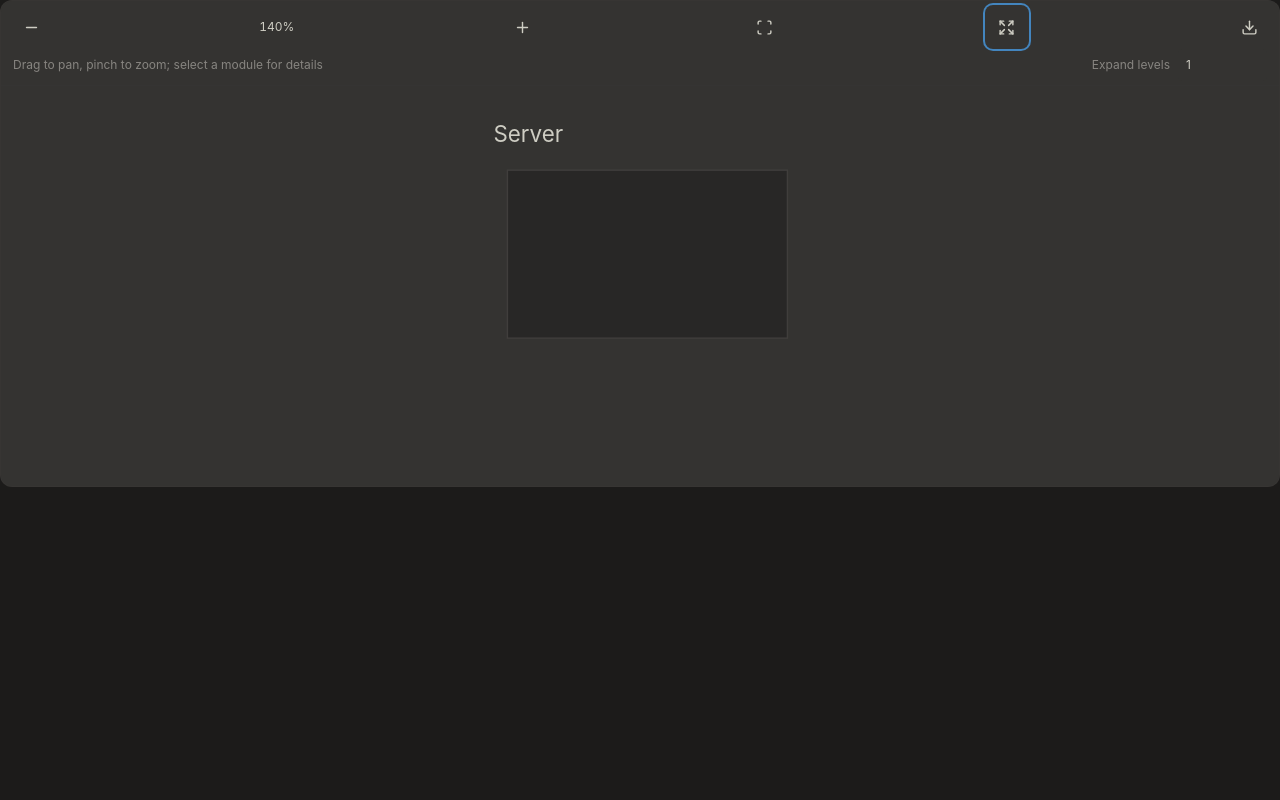
interactive architecture SVG › opens a fullscreen modal, contains keyboard focus, and restores focus and scroll on Escape
Expected: the button "Server" is shown, [493, 120, 563, 147]
Click the button named "Open fullscreen diagram" at (1007, 27), box [985, 5, 1029, 49]
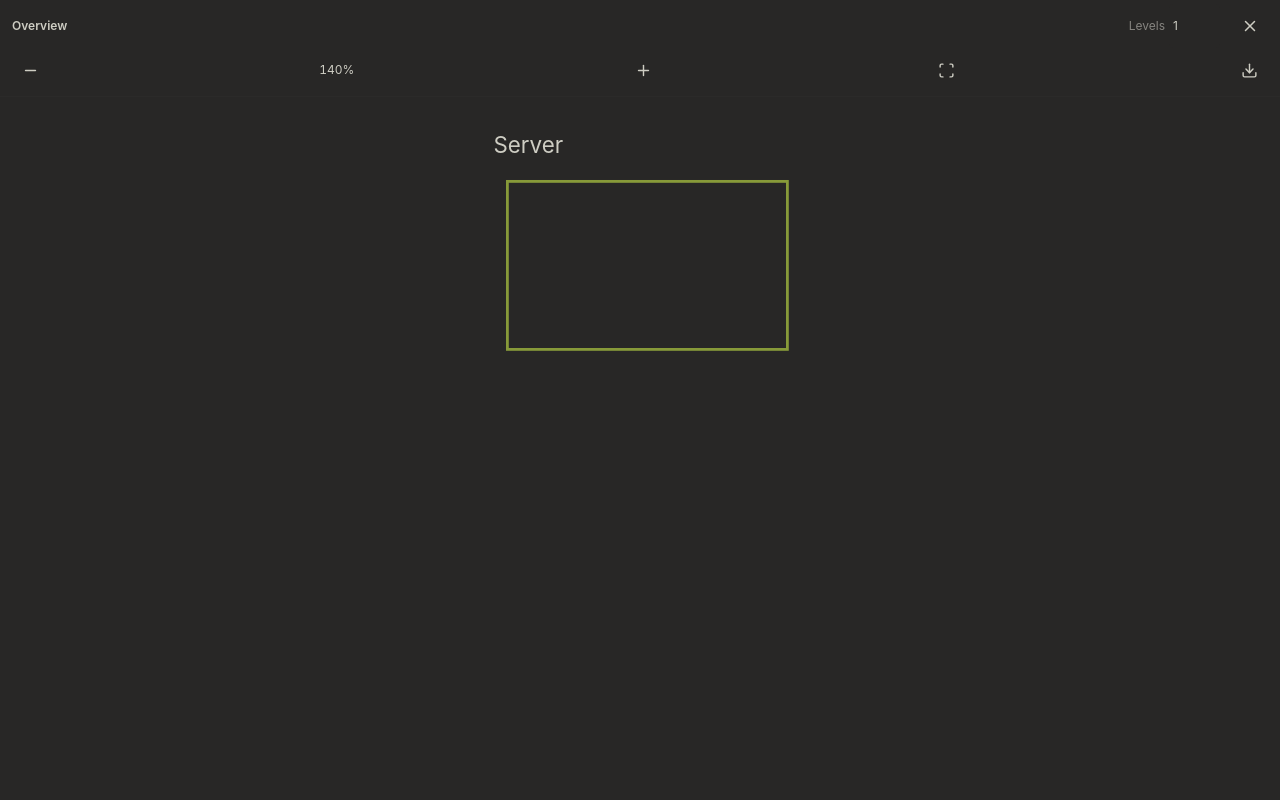
Result: the dialog named "Architecture diagram" is shown
Press Tab
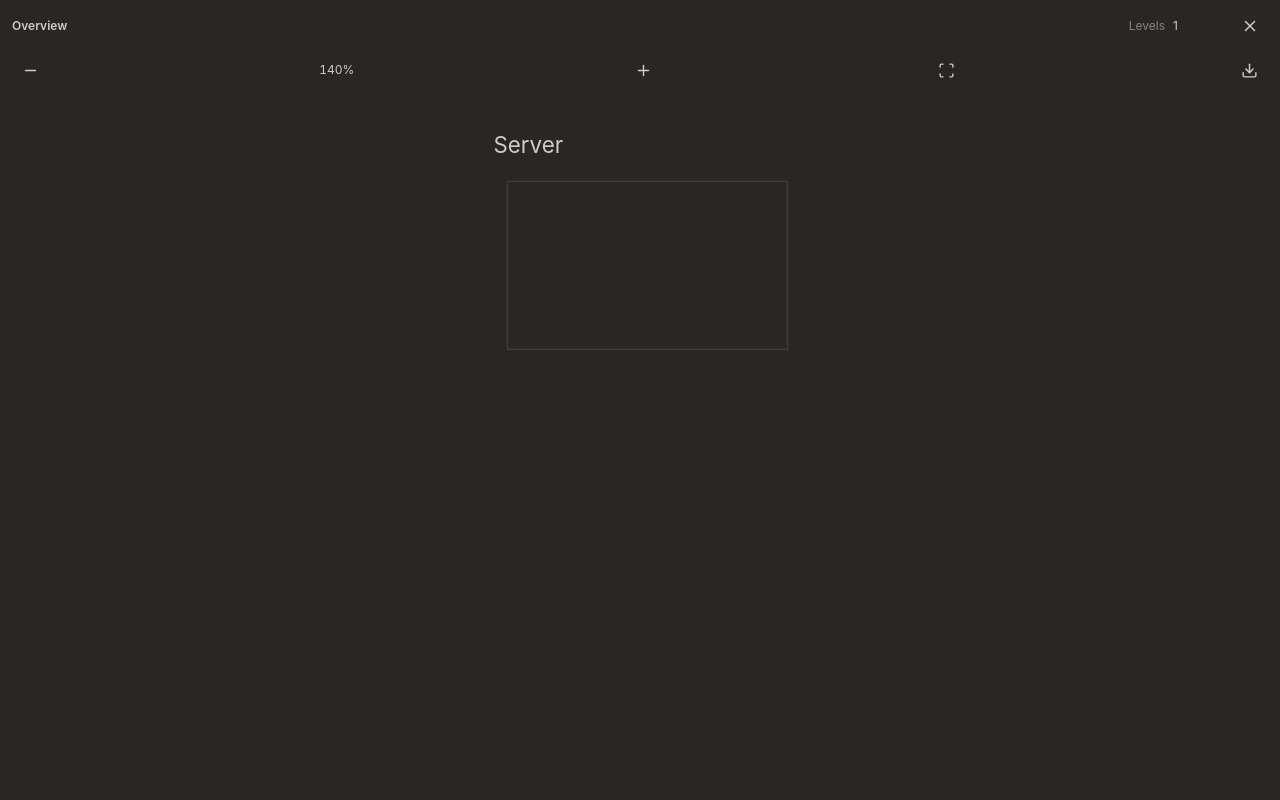
Press Tab
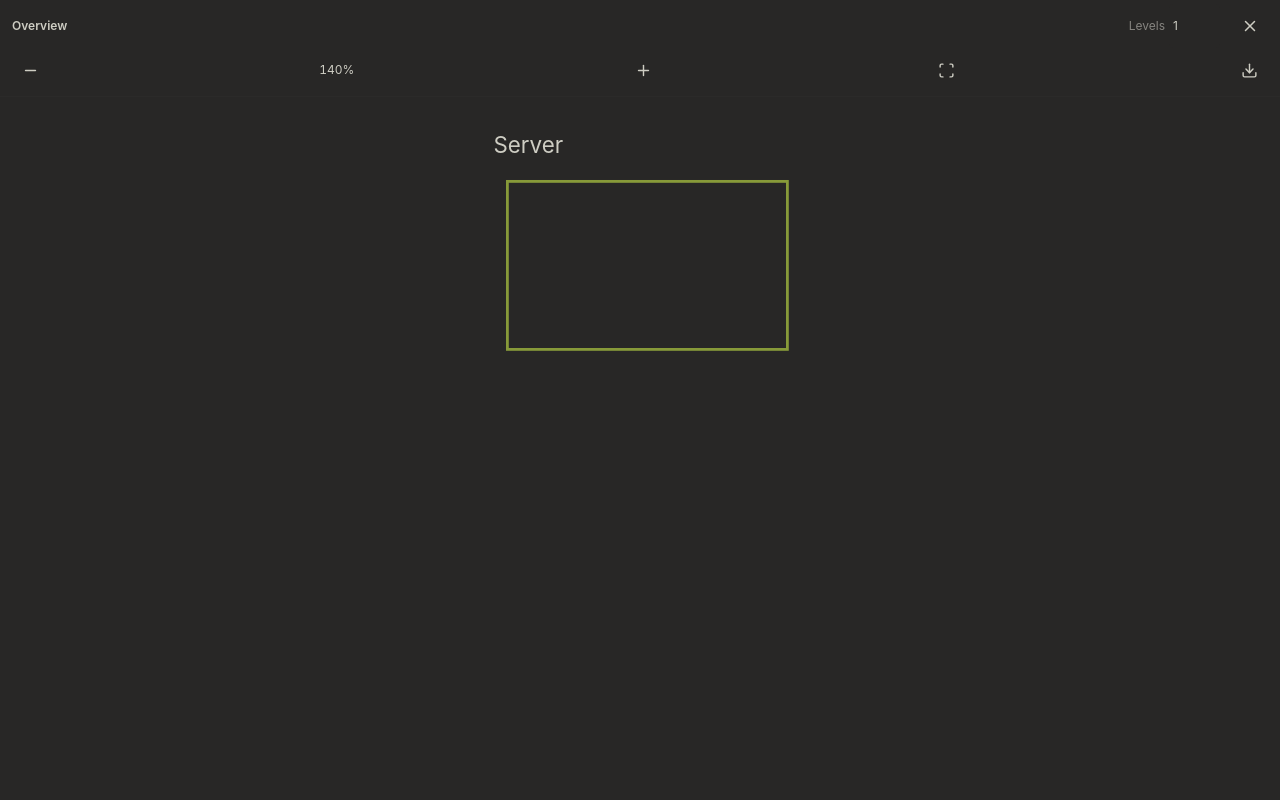
Press Escape
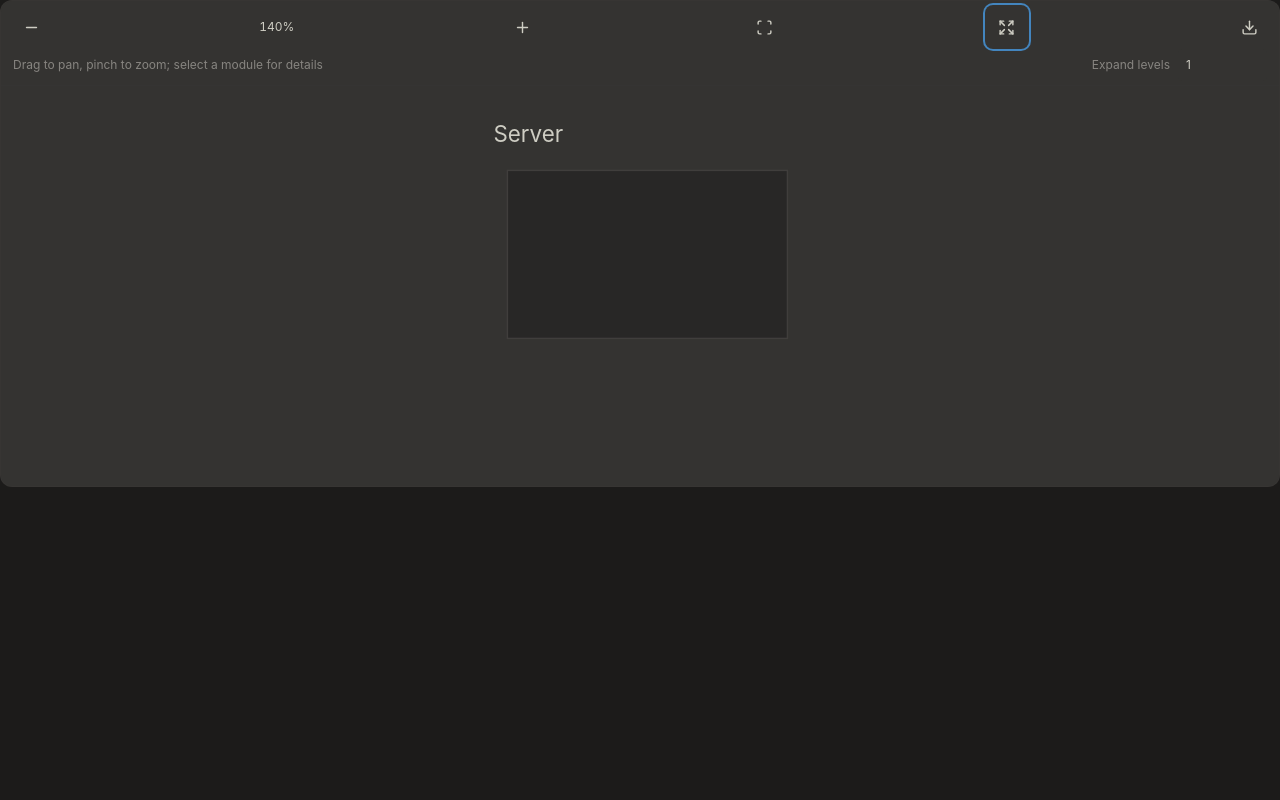
Result: the dialog is gone
